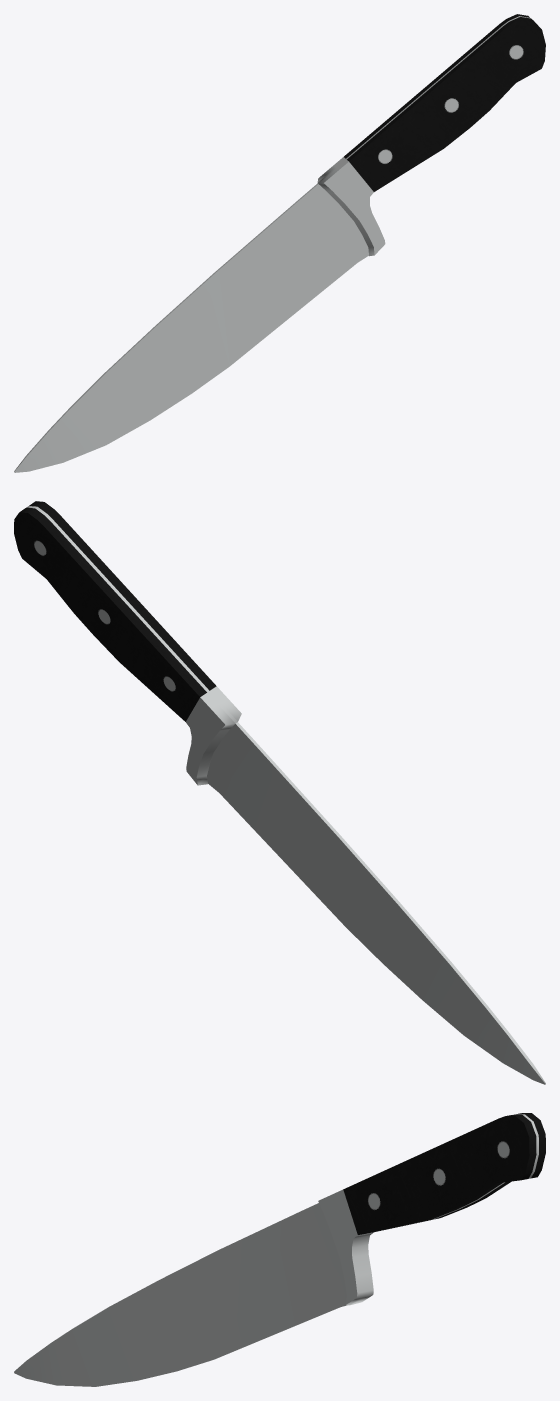
File: KitchenKnife.fbx
3 renders of one model, top to bottom at view 1: azimuth 30°, elevation 25°; view 2: azimuth 150°, elevation 25°; view 3: azimuth 330°, elevation 25°, orthographic. The views are drawn at different scales.
Parts seen in each view (by area): view 1: KitchenKnife; view 2: KitchenKnife; view 3: KitchenKnife.
Part boxes in pixels (bbox=[...]): KitchenKnife: bbox=[14, 14, 545, 472]; KitchenKnife: bbox=[14, 501, 545, 1084]; KitchenKnife: bbox=[14, 1113, 545, 1386].
Bounding box in the file's own units: 0.2689 × 0.1901 × 0.0411.
